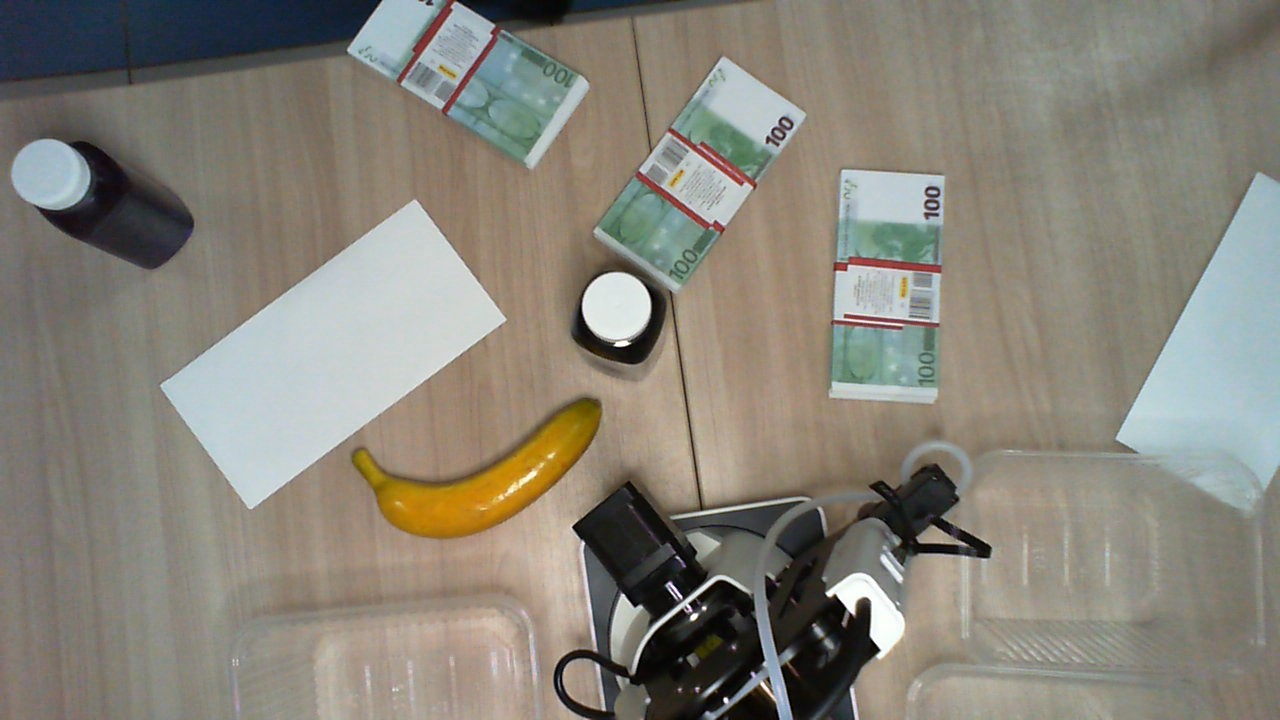banana: (351, 395, 604, 540)
bottle: (8, 127, 114, 242), (573, 272, 664, 363)
convert: (161, 197, 507, 510), (1116, 170, 1280, 505)
money: (592, 55, 809, 290), (348, 2, 593, 170), (828, 168, 945, 401)
